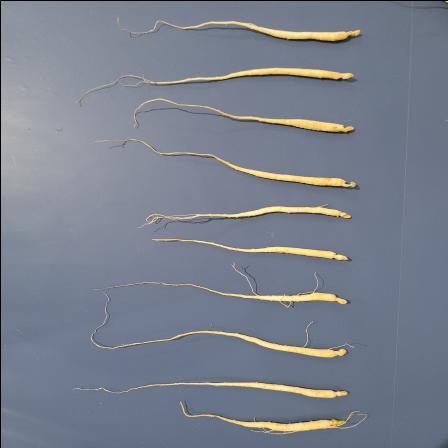Ginseng: (90, 306, 354, 362), (94, 137, 360, 189), (76, 62, 356, 103), (94, 260, 350, 304), (134, 96, 356, 134), (115, 15, 365, 43), (177, 398, 370, 434), (136, 203, 352, 229), (146, 234, 350, 260), (73, 380, 355, 398)
head: (323, 418, 347, 428), (328, 249, 348, 260), (330, 292, 347, 304), (328, 347, 348, 357), (343, 28, 360, 38), (333, 209, 351, 218), (335, 70, 353, 79), (330, 388, 350, 396), (340, 177, 356, 187), (338, 124, 354, 132)
